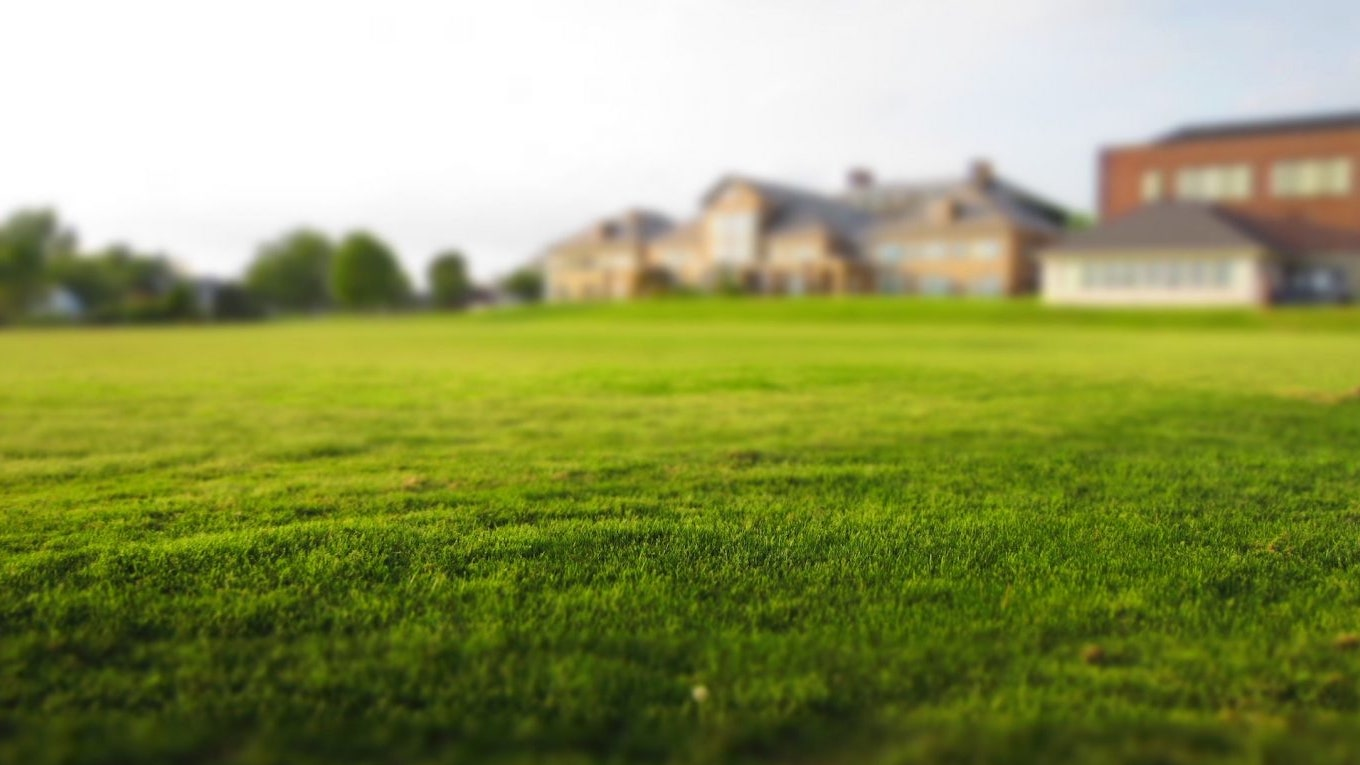grass: (6, 334, 1360, 765)
